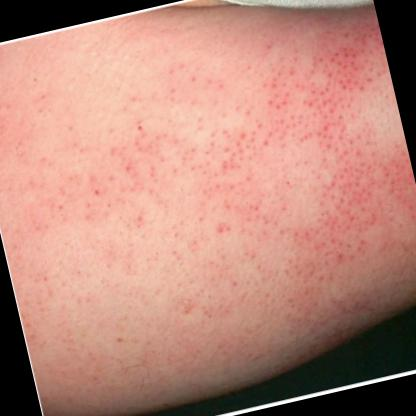Chicken Skin: (64, 0, 416, 348)
